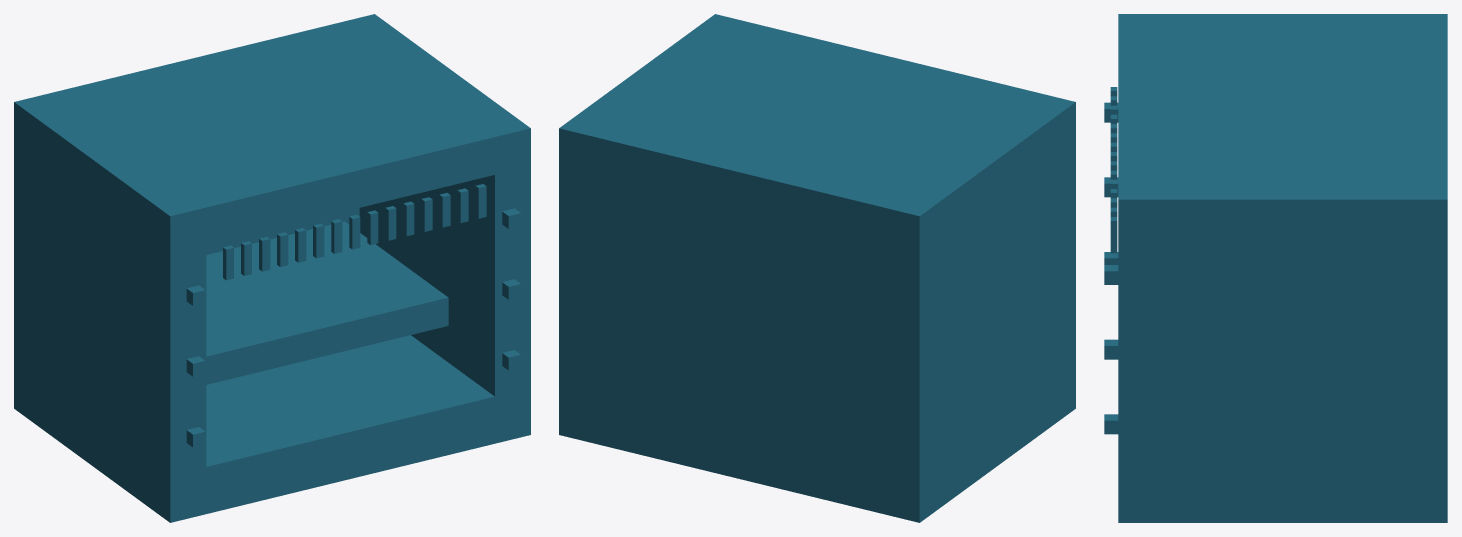
Rendered from cell.dae.
The picture shows the model from 3 angles, left to right: view 1: azimuth 30°, elevation 25°; view 2: azimuth 150°, elevation 25°; view 3: azimuth 270°, elevation 25°; orthographic projection. The views are drawn at different scales.
Visible parts, largest first — view 1: assembly; view 2: assembly; view 3: assembly.
Part boxes in pixels (x1,y1,x2,y2): assembly: (14,14,530,522); assembly: (559,14,1075,522); assembly: (1104,14,1447,522).
Size of the model in its own units: 1.6 by 1.25 by 1.3.
